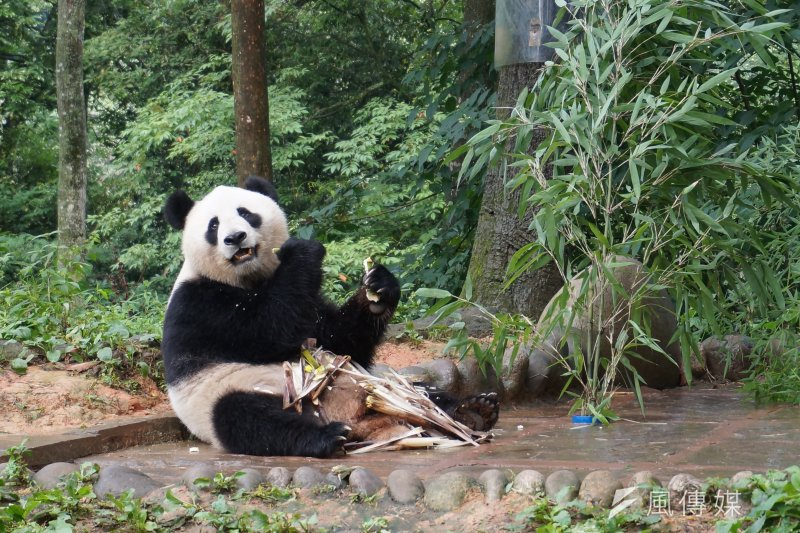panda: (160, 177, 502, 457)
